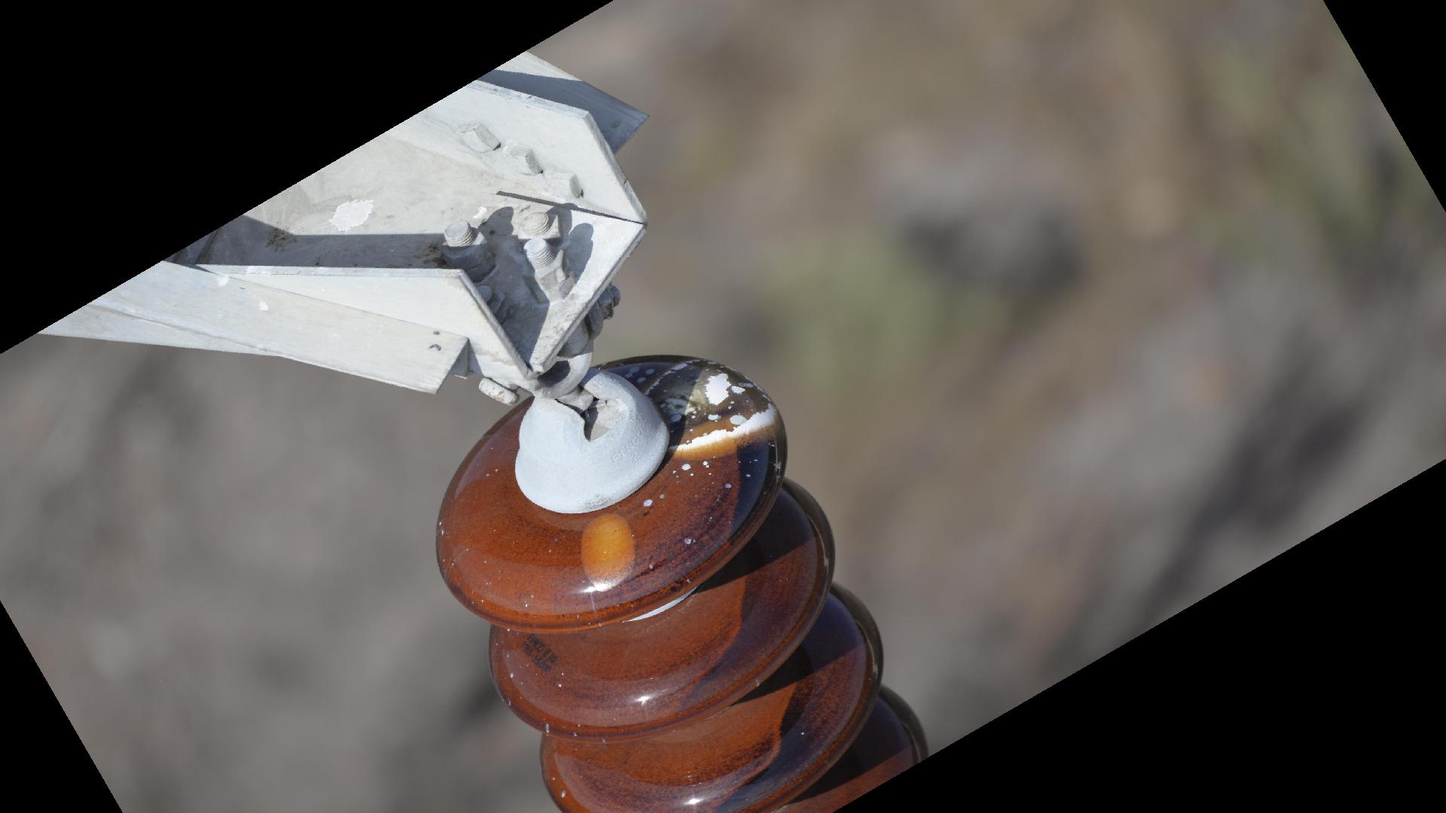insulator: (423, 346, 936, 813)
insulator_flashover: (637, 351, 787, 461), (572, 510, 639, 598)
